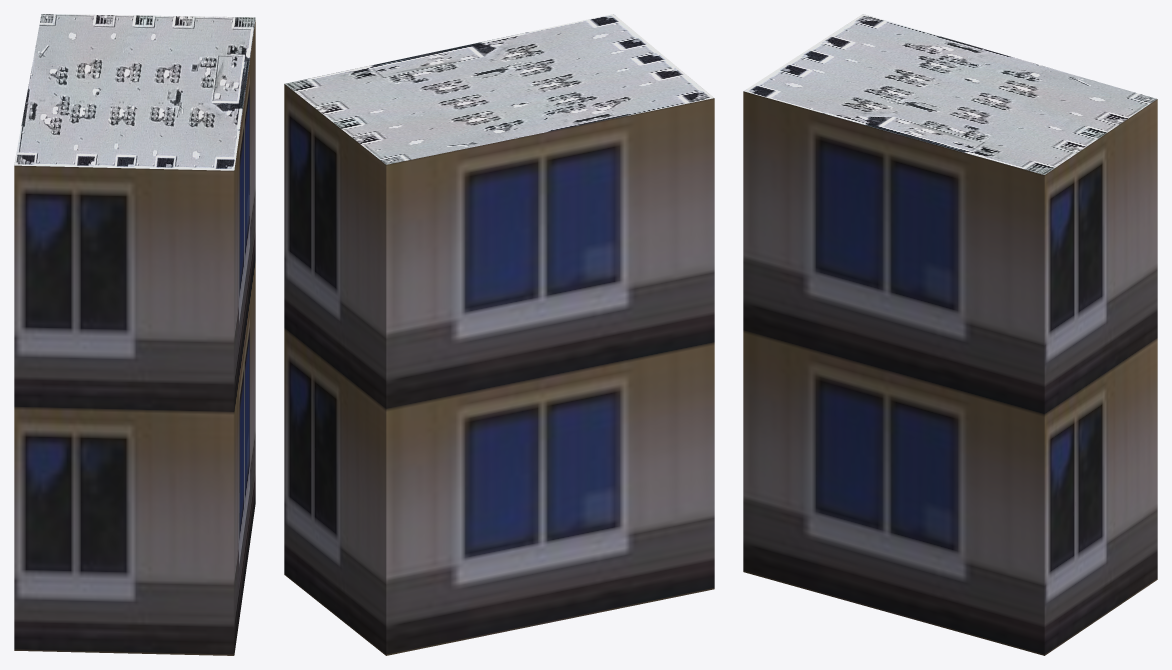
Rendered from ResTex__3746.fbx.
3 views of the same model, side by side, from view 1: azimuth 30°, elevation 25°; view 2: azimuth 150°, elevation 25°; view 3: azimuth 270°, elevation 25° (orthographic). The views are drawn at different scales.
Visible parts, largest first — view 1: CityEngineMaterial_5_m, CityEngineMaterial_2_m; view 2: CityEngineMaterial_5_m, CityEngineMaterial_2_m; view 3: CityEngineMaterial_5_m, CityEngineMaterial_2_m.
Boxes of the visible parts, x1,y1,x2,y2 form: CityEngineMaterial_5_m: [14, 20, 255, 655]; CityEngineMaterial_2_m: [14, 14, 255, 170]; CityEngineMaterial_5_m: [284, 84, 714, 655]; CityEngineMaterial_2_m: [285, 14, 714, 164]; CityEngineMaterial_5_m: [743, 91, 1157, 655]; CityEngineMaterial_2_m: [744, 14, 1156, 174].
Bounding box in the file's own units: 4.31 × 6 × 4.68.
2 materials, 2 textured.
